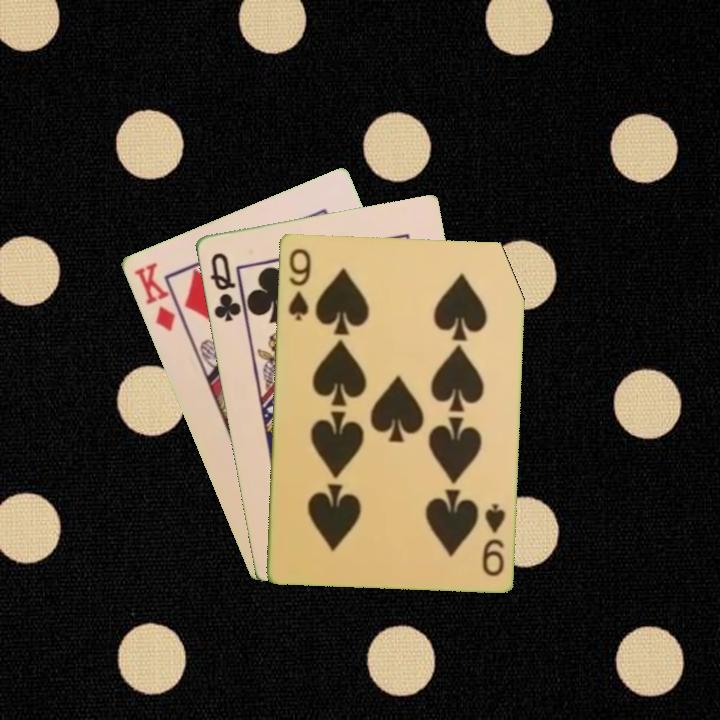9s: (284, 244, 313, 323), (478, 499, 507, 578)
Kd: (130, 258, 187, 334)
Qc: (206, 248, 244, 325)
